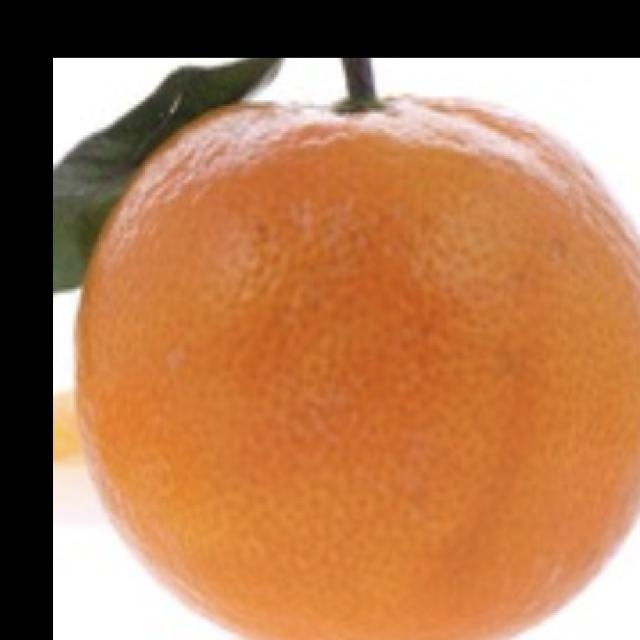Orange: (71, 86, 639, 639)
